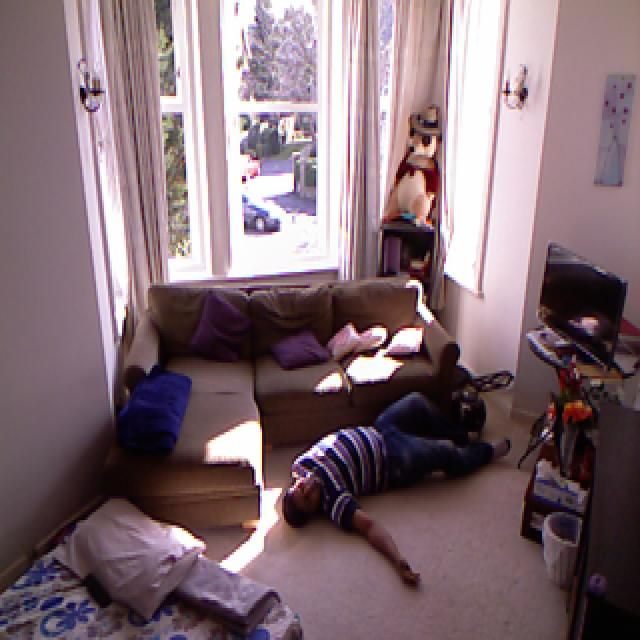lying: (272, 387, 518, 588)
